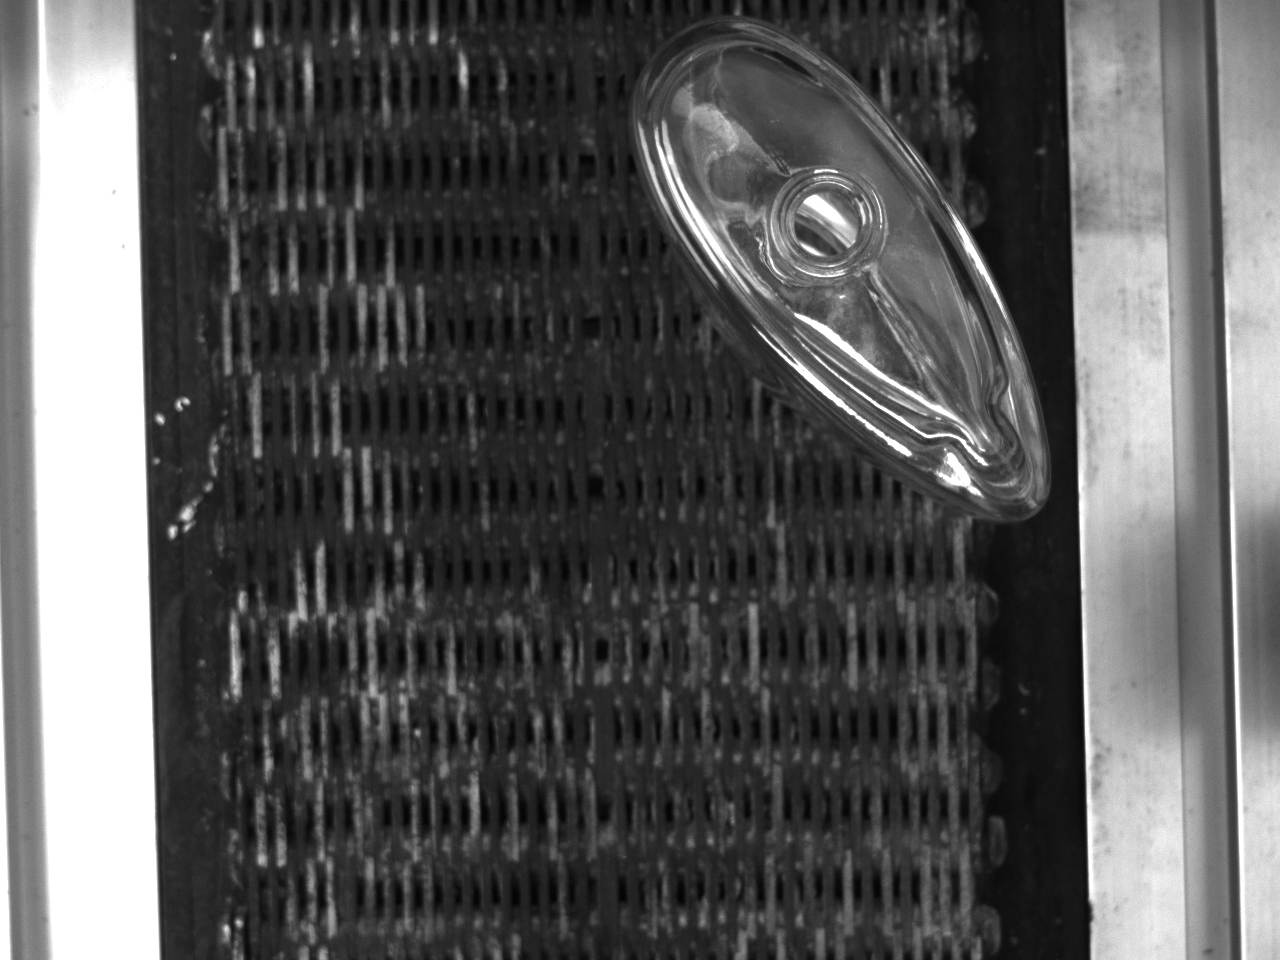bottleneck: (767, 166, 887, 279)
